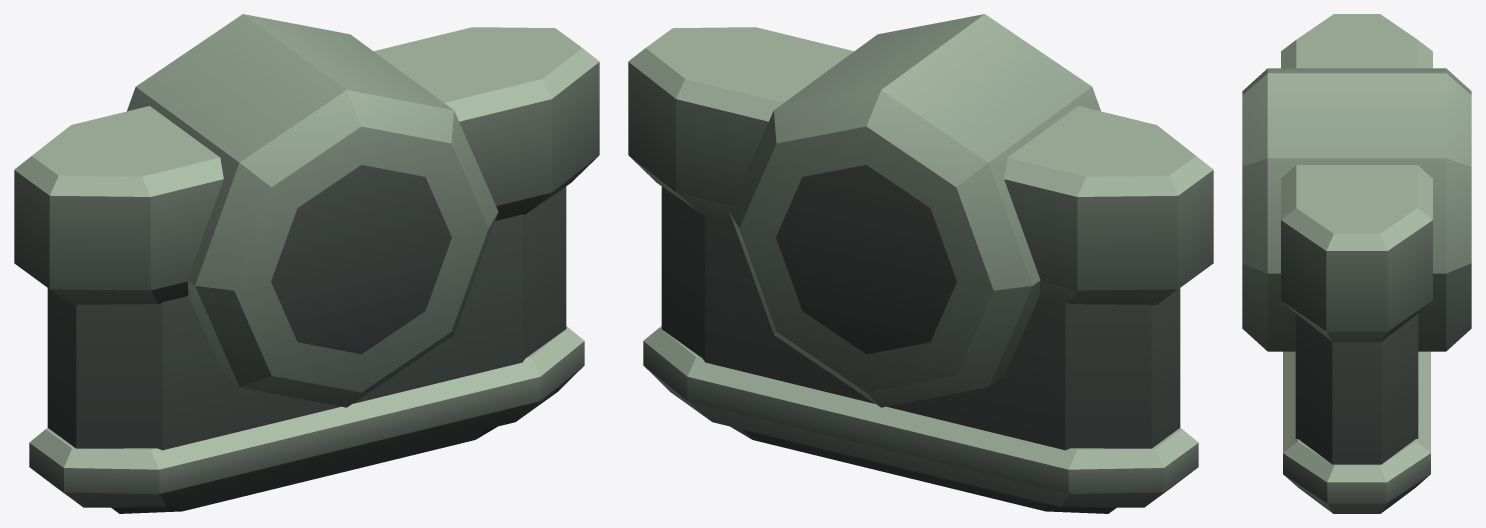
The model's file is decor_011.fbx.
The picture shows the model from 3 angles, left to right: view 1: azimuth 30°, elevation 25°; view 2: azimuth 150°, elevation 25°; view 3: azimuth 270°, elevation 25°; orthographic projection. The views are drawn at different scales.
Parts seen in each view (by area): view 1: decor.011; view 2: decor.011; view 3: decor.011.
Part boxes in pixels (<box>): decor.011: <box>14,14,599,513</box>; decor.011: <box>628,14,1213,513</box>; decor.011: <box>1242,14,1471,513</box>.
Bounding box in the file's own units: 23.03 × 16.43 × 9.66.
